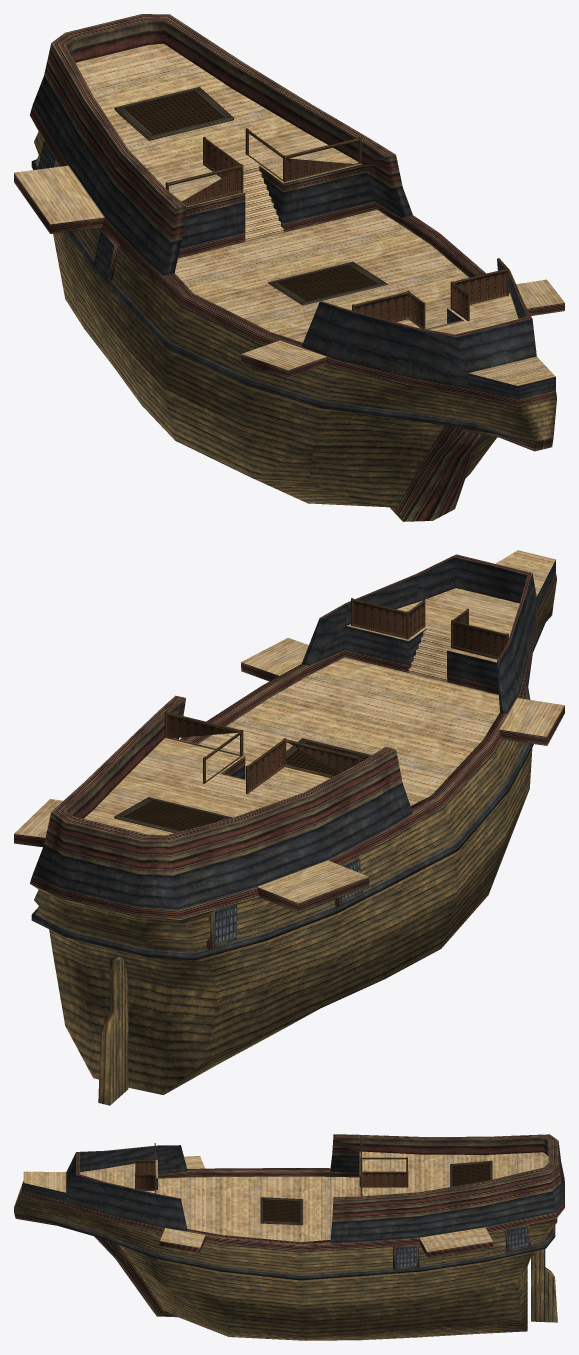
Rendered from pir_m_shp_car_light.fbx.
3 renders of one model, top to bottom at view 1: azimuth 30°, elevation 25°; view 2: azimuth 150°, elevation 25°; view 3: azimuth 270°, elevation 25°, orthographic. The views are drawn at different scales.
Parts seen in each view (by area): view 1: deck1, hullA, stripe1, hull_bottom, hull_upper_fore, hull_upper_aft, stripe_lower, keel, trim, grate_2, ropeLadder_deck_right_1, grate_1 (+13 smaller); view 2: deck1, hullA, hull_bottom, stripe1, hull_upper_aft, hull_upper_fore, stripe_lower, trim, rudder, ropeLadder_deck_right_1, grate_2, ropeLadder_deck_right_0 (+13 smaller); view 3: hullA, hull_bottom, deck1, stripe1, hull_upper_fore, hull_upper_aft, stripe_lower, trim, rudder, keel, grate_1, ropeLadder_deck_left_1 (+10 smaller).
Part boxes in pixels (x1,y1,x2,y2): deck1: [75, 43, 555, 385]; hullA: [32, 120, 556, 450]; stripe1: [44, 14, 402, 243]; hull_bottom: [53, 233, 496, 507]; hull_upper_fore: [301, 259, 555, 399]; hull_upper_aft: [33, 76, 412, 275]; stripe_lower: [30, 105, 556, 406]; keel: [390, 425, 553, 521]; trim: [31, 159, 536, 441]; grate_2: [114, 87, 233, 140]; ropeLadder_deck_right_1: [14, 165, 104, 224]; grate_1: [267, 261, 387, 305]; deck1: [84, 550, 555, 835]; hullA: [31, 580, 556, 992]; hull_bottom: [52, 791, 528, 1094]; stripe1: [44, 695, 402, 876]; hull_upper_aft: [32, 737, 412, 909]; hull_upper_fore: [301, 556, 555, 713]; stripe_lower: [30, 573, 556, 920]; trim: [31, 606, 552, 960]; rudder: [98, 956, 128, 1105]; ropeLadder_deck_right_1: [257, 860, 368, 903]; grate_2: [114, 797, 232, 832]; ropeLadder_deck_right_0: [499, 698, 564, 736]; hullA: [14, 1184, 557, 1305]; hull_bottom: [132, 1263, 527, 1340]; deck1: [23, 1151, 548, 1242]; stripe1: [332, 1134, 560, 1222]; hull_upper_fore: [23, 1145, 187, 1230]; hull_upper_aft: [330, 1154, 564, 1243]; stripe_lower: [22, 1168, 564, 1251]; trim: [16, 1213, 555, 1280]; rudder: [531, 1249, 557, 1322]; keel: [14, 1212, 177, 1317]; grate_1: [260, 1197, 303, 1225]; ropeLadder_deck_left_1: [420, 1227, 492, 1251].
Bounding box in the file's own units: 5677 × 4669 × 13770.
2 materials, 2 textured.
